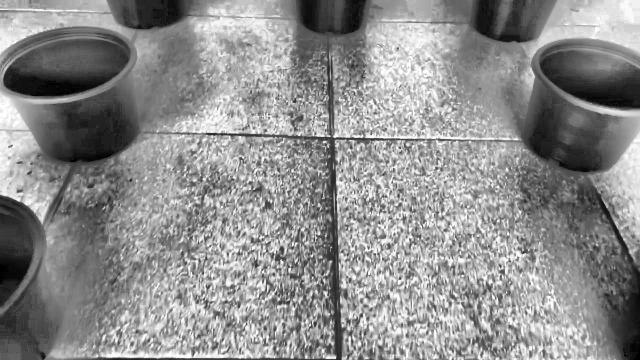pot: (0, 26, 142, 165), (522, 38, 640, 174)
